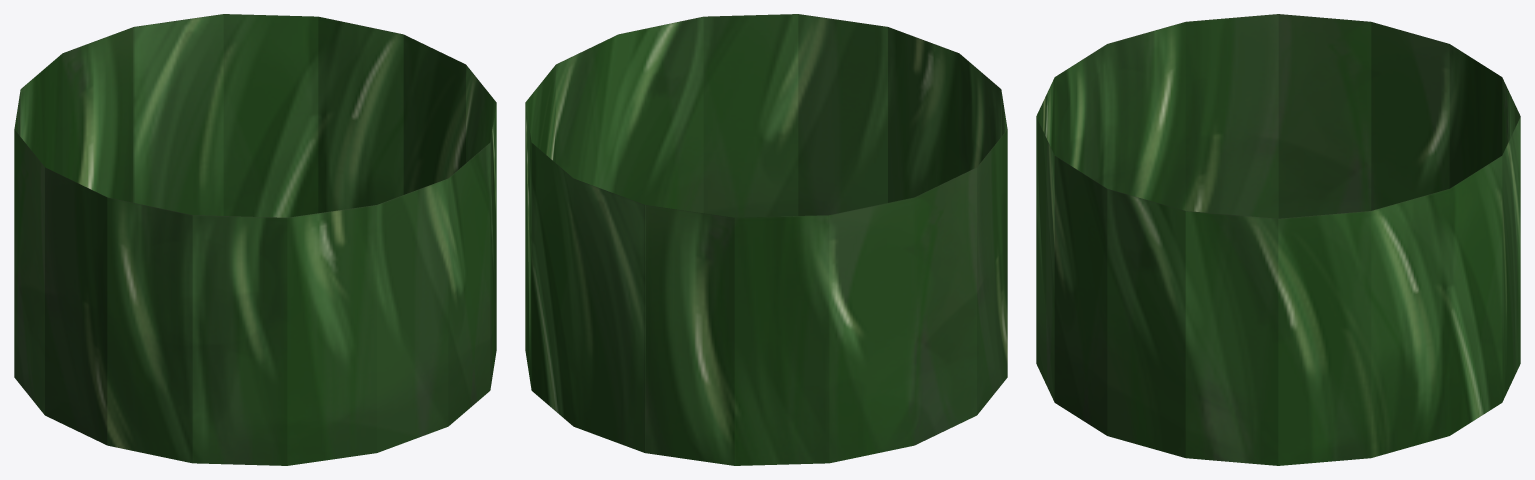
The model's file is Outside.glb.
3 views of the same model, side by side, from view 1: azimuth 30°, elevation 25°; view 2: azimuth 150°, elevation 25°; view 3: azimuth 270°, elevation 25° (orthographic).
Visible parts, largest first — view 1: Outside; view 2: Outside; view 3: Outside.
Part boxes in pixels (<box>): Outside: <box>14,14,496,465</box>; Outside: <box>525,14,1007,465</box>; Outside: <box>1036,14,1520,465</box>.
Size of the model in its own units: 8.67 by 4.88 by 8.67.
1 material, 1 textured.
